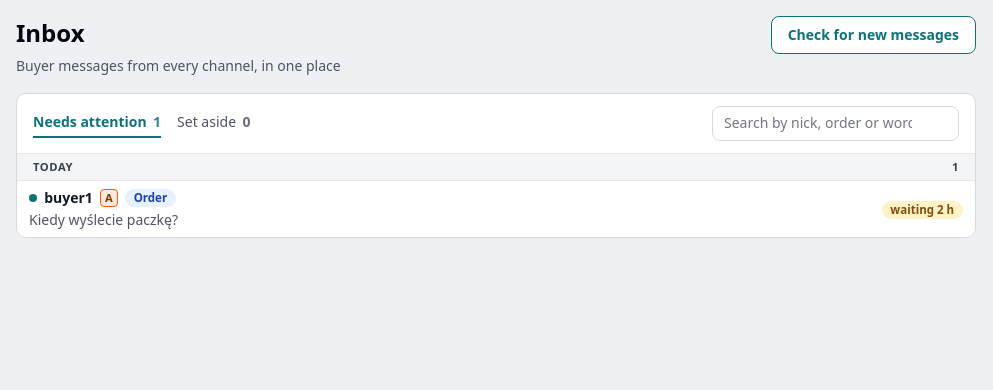
Test: the tabs › move one from a tab to the other when a conversation is put aside
Expected: the tab "Needs attention1" is shown, 33,108 -> 161,138
Expected: the tab "Set aside0" is shown, 177,108 -> 250,138
Click the button "buyer1 A Order Kiedy wyślecie paczkę? waiting 2 h": (69, 197) 17,180 -> 975,237
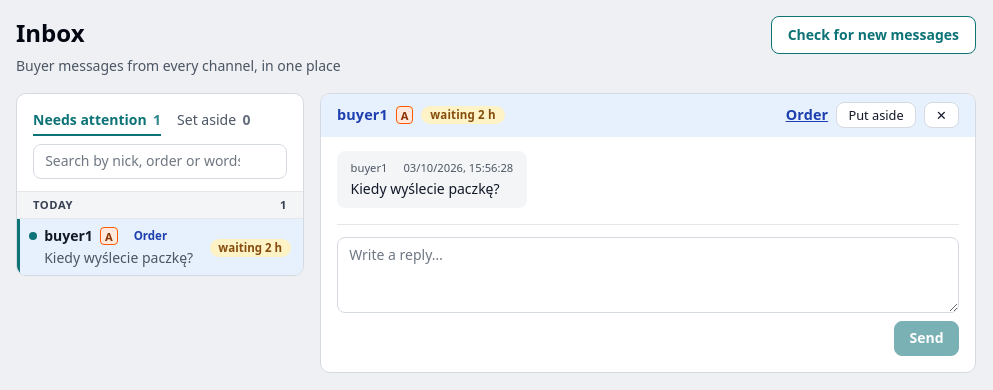
Click the button "Put aside": (876, 115) 836,102 -> 916,128
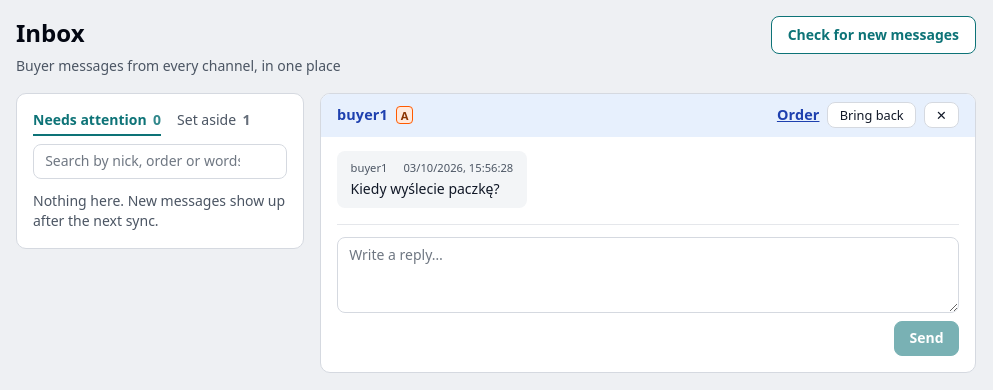
Expected: the tab "Needs attention0" is shown, 33,106 -> 161,136
Expected: the tab "Set aside1" is shown, 177,106 -> 250,136
